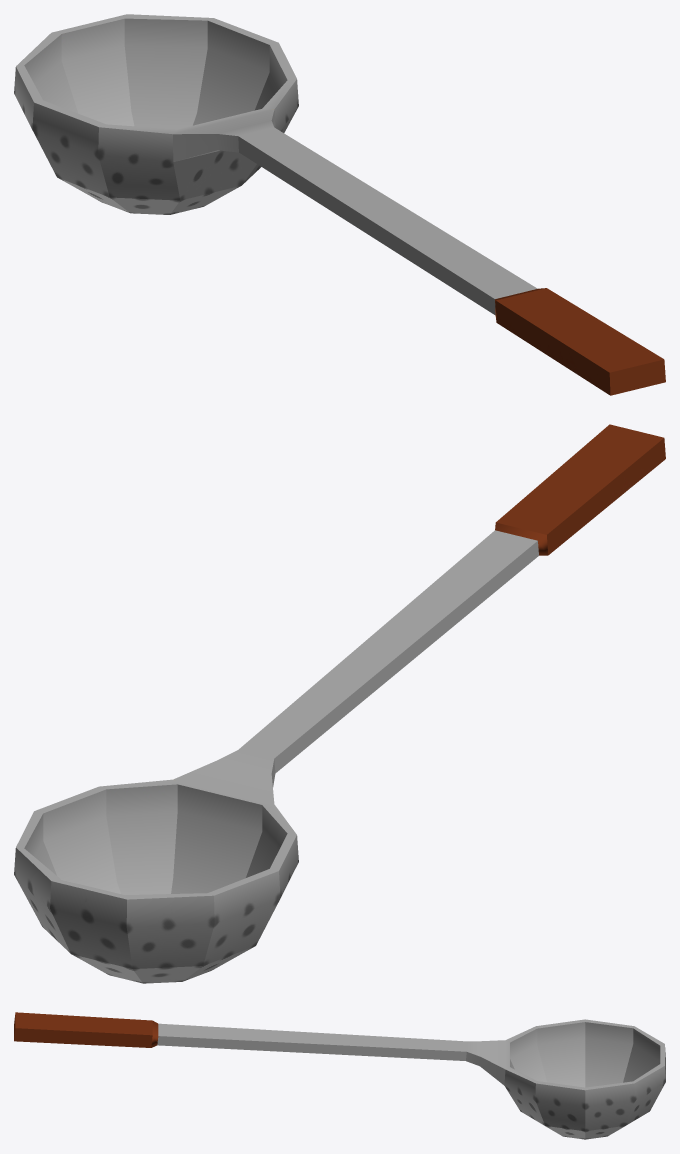
Rendered from spoon01.fbx.
The picture shows the model from 3 angles, top to bottom: view 1: azimuth 30°, elevation 25°; view 2: azimuth 150°, elevation 25°; view 3: azimuth 270°, elevation 25°; orthographic projection. The views are drawn at different scales.
Visible parts, largest first — view 1: spoon01; view 2: spoon01; view 3: spoon01.
Part boxes in pixels (x1,y1,x2,y2): spoon01: (14, 14, 665, 395); spoon01: (14, 424, 665, 983); spoon01: (14, 1012, 665, 1139).
Size of the model in its own units: 1.14 by 0.8052 by 4.39.
